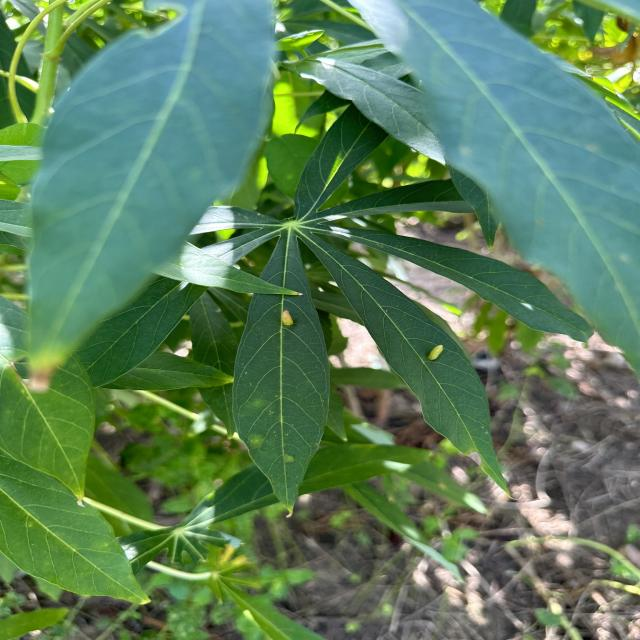Mosca: (419, 335, 450, 367), (276, 305, 299, 334)
